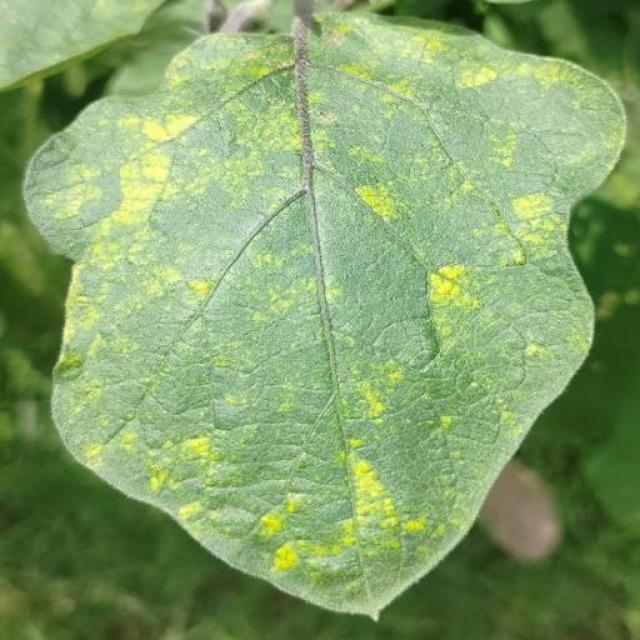leaf_spot: (168, 23, 324, 163), (57, 215, 211, 308), (168, 128, 306, 216), (238, 234, 344, 327), (56, 364, 146, 466), (104, 137, 182, 240), (345, 462, 429, 542), (422, 321, 519, 384), (498, 187, 571, 260), (506, 57, 606, 110), (417, 251, 483, 330), (38, 153, 109, 223), (332, 367, 420, 422), (65, 296, 116, 380), (322, 414, 384, 475), (304, 518, 378, 568), (433, 161, 483, 230), (112, 111, 203, 146), (348, 178, 408, 225), (126, 452, 184, 500), (171, 488, 219, 542), (373, 70, 423, 120), (486, 115, 529, 172), (486, 383, 526, 444), (310, 12, 376, 47), (250, 504, 300, 547), (451, 53, 503, 94), (262, 535, 314, 575), (398, 24, 446, 64), (170, 434, 234, 462), (267, 376, 312, 415), (330, 52, 386, 82), (352, 134, 398, 167), (512, 333, 551, 368), (216, 386, 262, 415), (205, 347, 247, 378), (437, 502, 464, 548), (432, 404, 466, 434), (275, 498, 315, 514), (428, 451, 472, 462)
